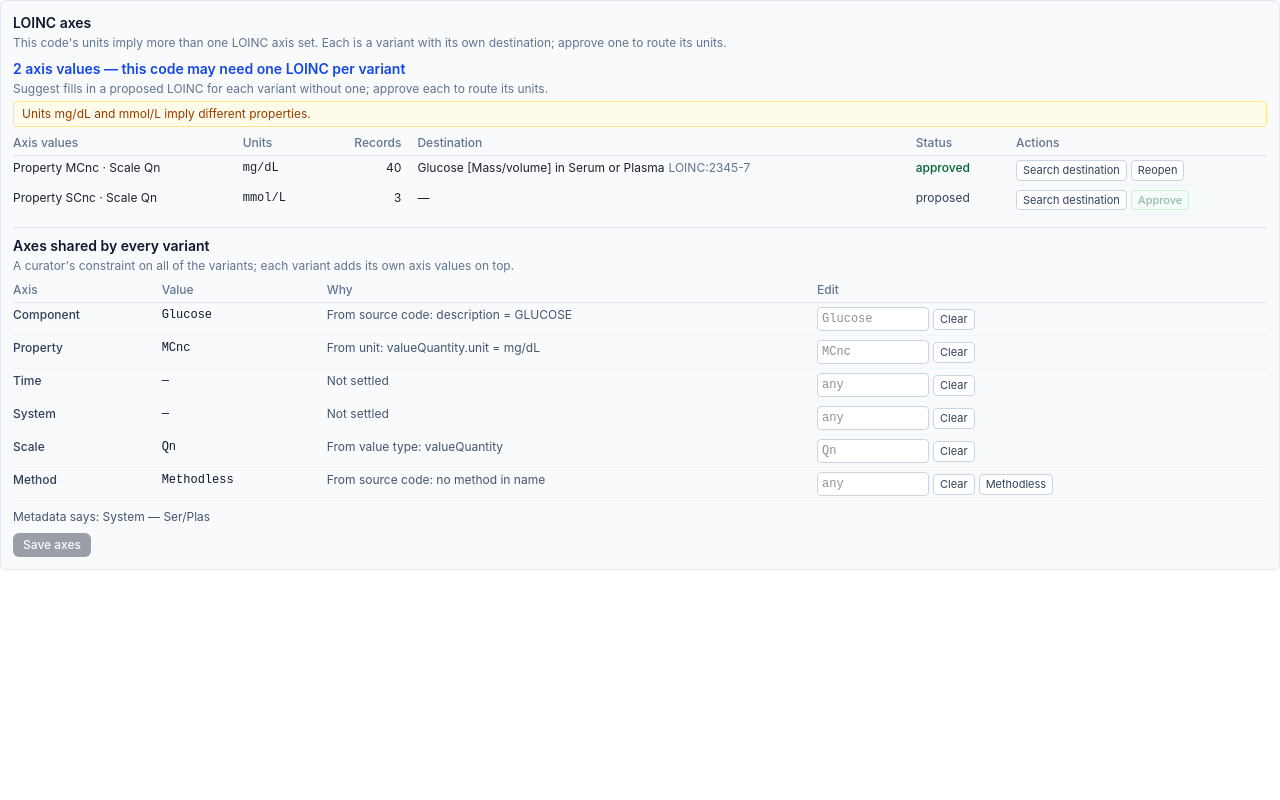
LoincAxesPanel › reopens an approved variant explicitly, and says so
Click the button with aria-label "Reopen Property MCnc · Scale Qn" at (1158, 170), box [1131,160,1184,181]
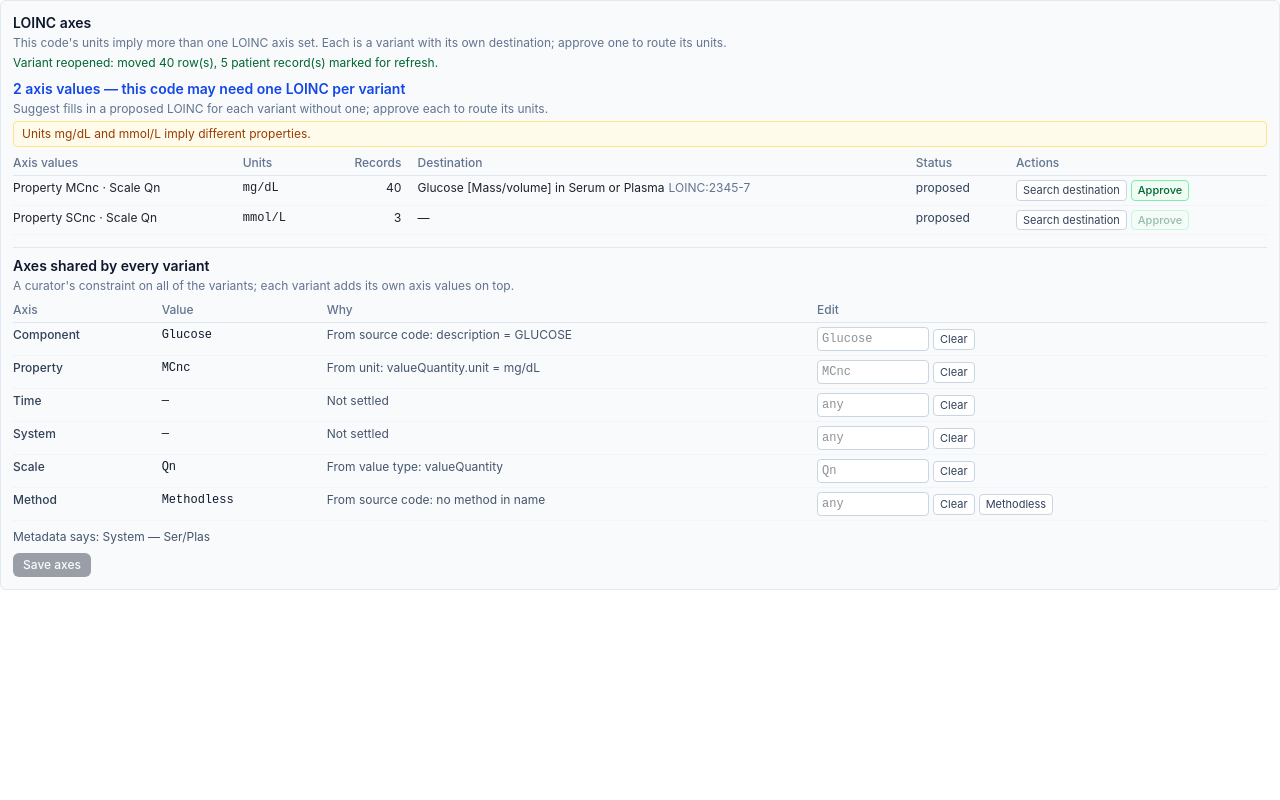
Expected: the text "Variant reopened: moved 40 row(s), 5 patient record(s) marked for refresh." is shown, [13,55,438,70]
